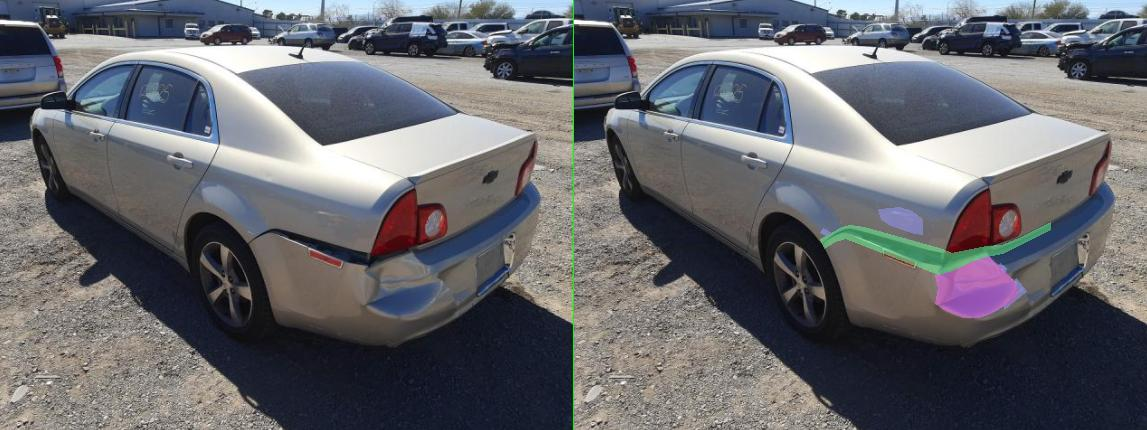Broken part: (492, 222, 953, 274)
Dent: (723, 253, 887, 317)
Scratch: (609, 207, 697, 234), (861, 278, 905, 309), (841, 263, 865, 279), (492, 228, 514, 236)
